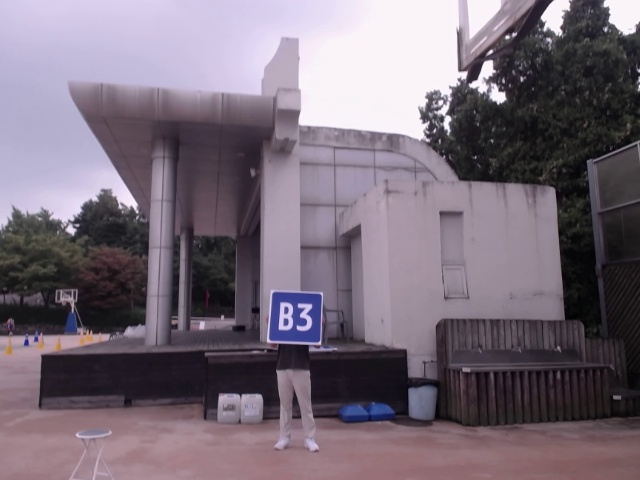delivery_b3: (270, 289, 322, 344)
